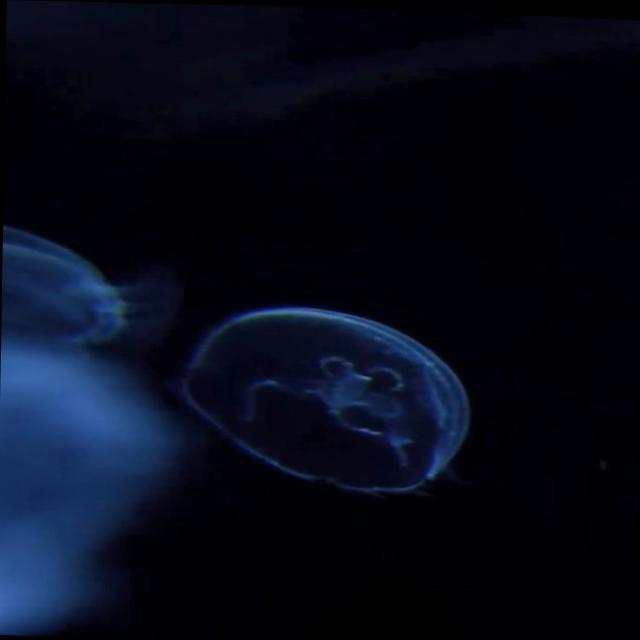Moon-jellyfish: (172, 298, 470, 488), (0, 219, 169, 340)
